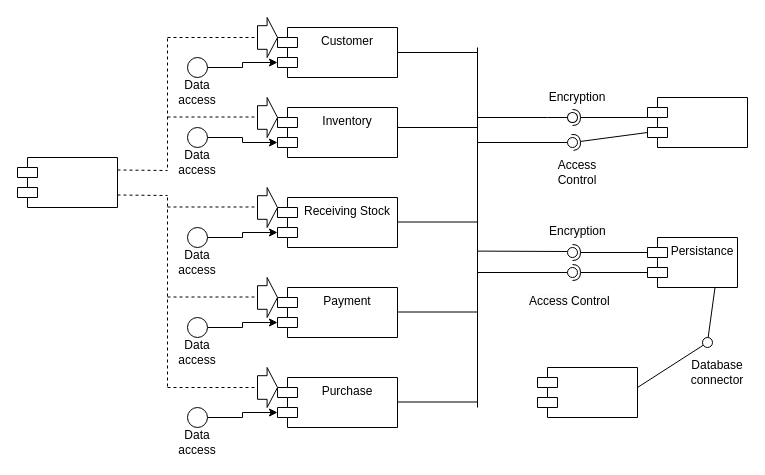
The diagram is 765 pixels wide and 475 high, and some of its shapes have lost their labels. The centre of each missing label's shape, as x and y in pixels:
"Database" goes at point (587, 392).
"Inventory Management System" goes at point (67, 182).
"Security" goes at point (697, 122).
